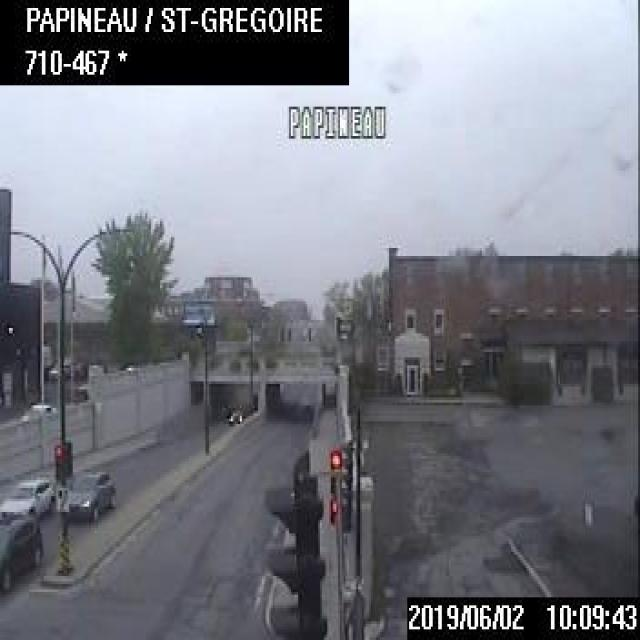vehicle: (56, 467, 115, 522), (0, 517, 42, 592), (0, 471, 55, 518), (228, 408, 245, 424)
